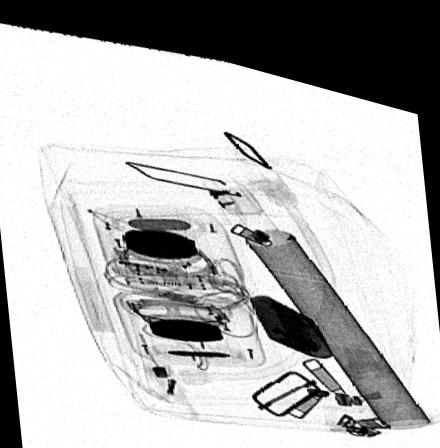Lighter: (246, 279, 334, 340)
